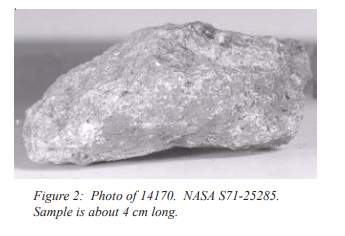Breccia: (22, 7, 298, 169)
